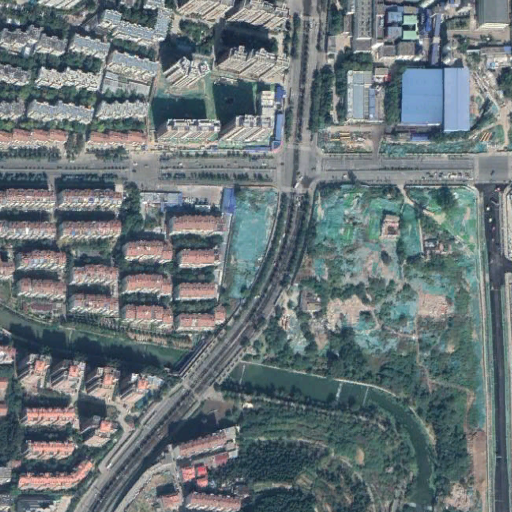cw: (289, 182, 487, 425), (223, 185, 280, 298)
